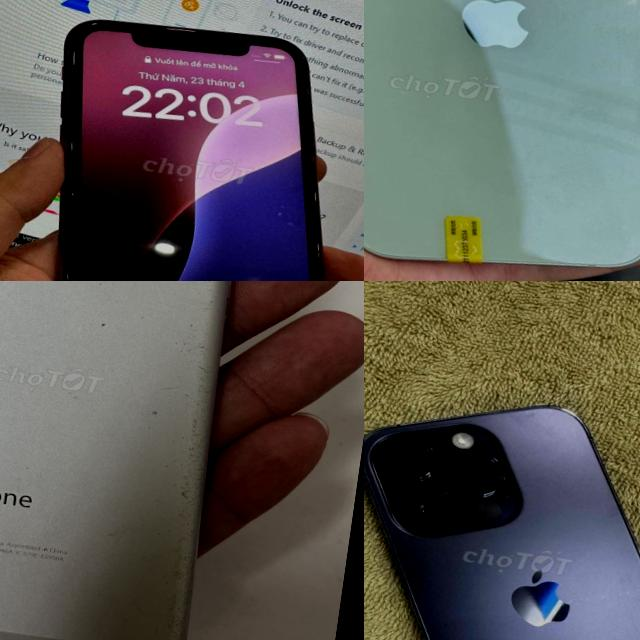gen_12_13: (364, 0, 640, 281)
gen_14: (364, 378, 640, 640)
gen_6: (0, 281, 229, 640)
gen_x_xs: (59, 21, 322, 281)
